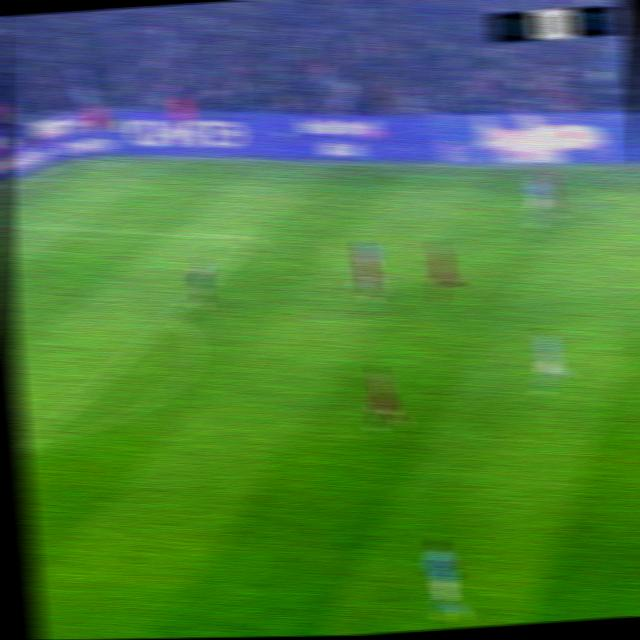bigarea_top_inner: (242, 226, 266, 252)
bottom_arc_area_intersection: (21, 428, 48, 457)
corner: (84, 150, 112, 174)
top_arc_area_intersection: (156, 306, 182, 331)
